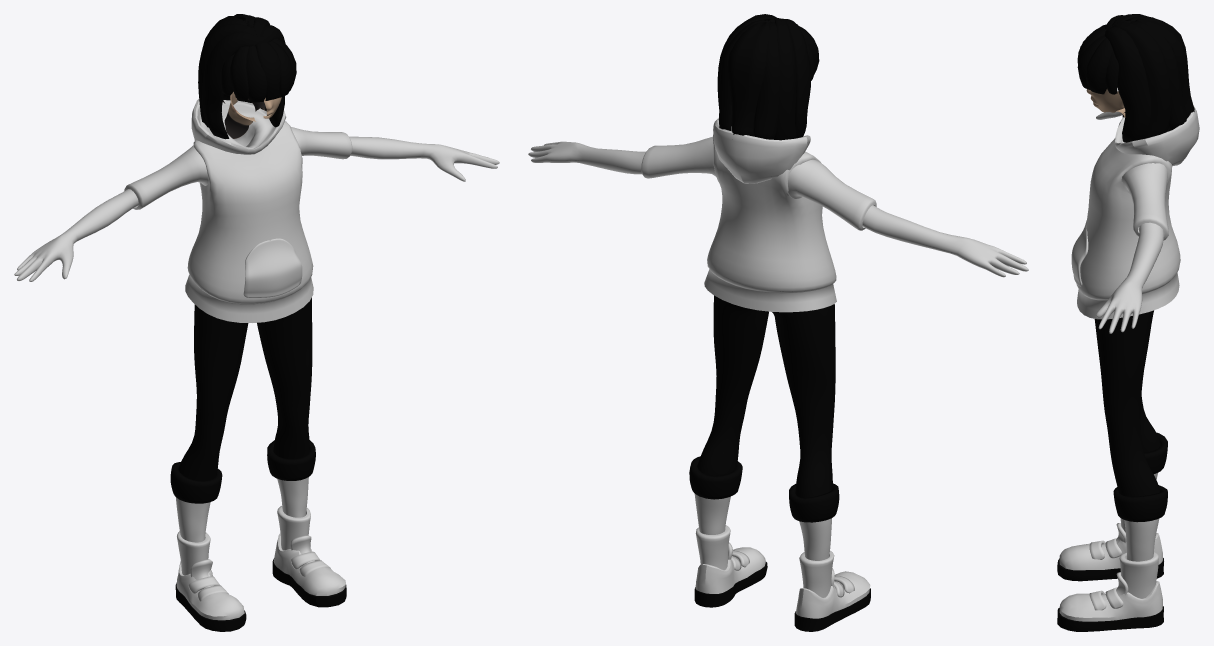
Rendered from a-cartoony-female-character.obj.
3 views of the same model, side by side, from view 1: azimuth 30°, elevation 25°; view 2: azimuth 150°, elevation 25°; view 3: azimuth 270°, elevation 25° (orthographic). The views are drawn at different scales.
Visible parts, largest first — view 1: hoodie, pants, shoes, hair, arms, legs, head; view 2: hoodie, pants, hair, shoes, arms, legs; view 3: hoodie, hair, pants, shoes, arms, legs, head.
Part boxes in pixels (box(x1,y1,x2,y2)): hoodie: box(124, 98, 352, 322); pants: box(170, 297, 315, 503); shoes: box(175, 506, 346, 631); hair: box(198, 14, 296, 139); arms: box(14, 136, 499, 281); legs: box(176, 477, 308, 542); head: box(222, 92, 281, 138); hoodie: box(641, 118, 876, 312); pants: box(689, 295, 839, 522); hair: box(717, 14, 819, 140); shoes: box(694, 525, 870, 631); arms: box(528, 141, 1028, 277); legs: box(694, 494, 831, 560); hoodie: box(1071, 105, 1199, 319); hair: box(1077, 14, 1194, 142); pants: box(1094, 310, 1167, 522); shoes: box(1057, 518, 1163, 631); arms: box(1096, 111, 1163, 333); legs: box(1124, 473, 1159, 561); head: box(1086, 89, 1125, 117).
Size of the model in its own units: 1.58 by 1.78 by 0.3972.
9 materials, 1 textured.
